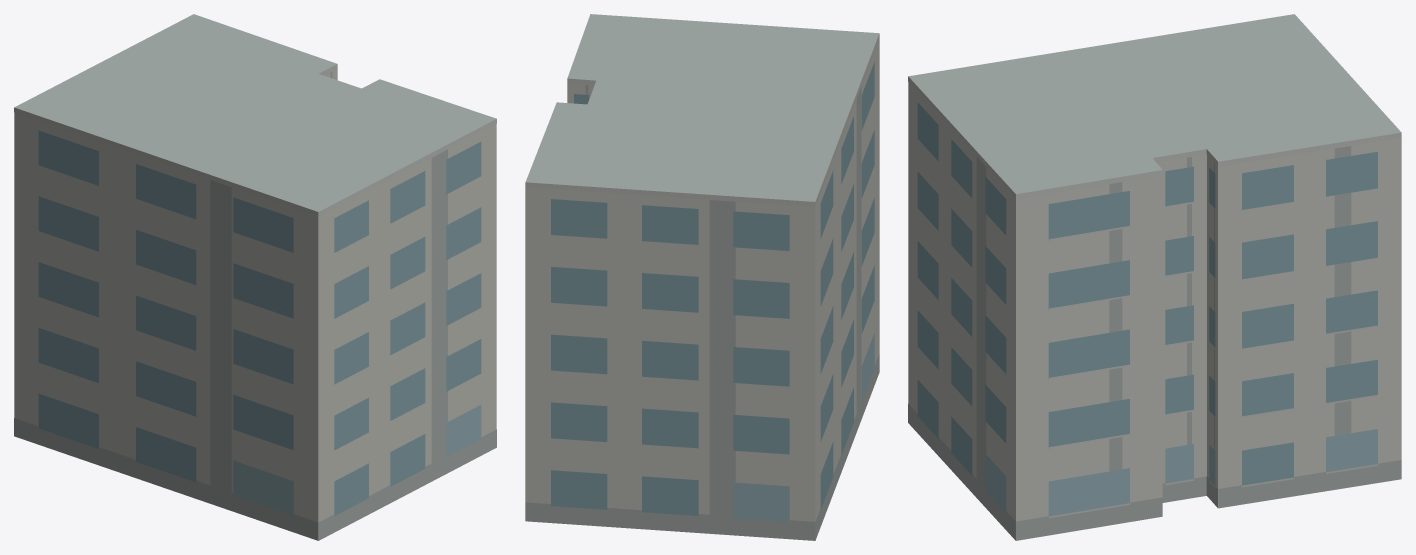
Rendered from survey-upis-33019373.glb.
3 views of the same model, side by side, from view 1: azimuth 30°, elevation 25°; view 2: azimuth 150°, elevation 25°; view 3: azimuth 270°, elevation 25° (orthographic). The views are drawn at different scales.
Visible parts, largest first — view 1: survey-upis-33019373.tmp; view 2: survey-upis-33019373.tmp; view 3: survey-upis-33019373.tmp.
Part boxes in pixels (<box>): survey-upis-33019373.tmp: <box>14,14,496,540</box>; survey-upis-33019373.tmp: <box>525,14,879,540</box>; survey-upis-33019373.tmp: <box>908,14,1401,540</box>.
Size of the model in its own units: 17.74 by 15.9 by 20.52.
